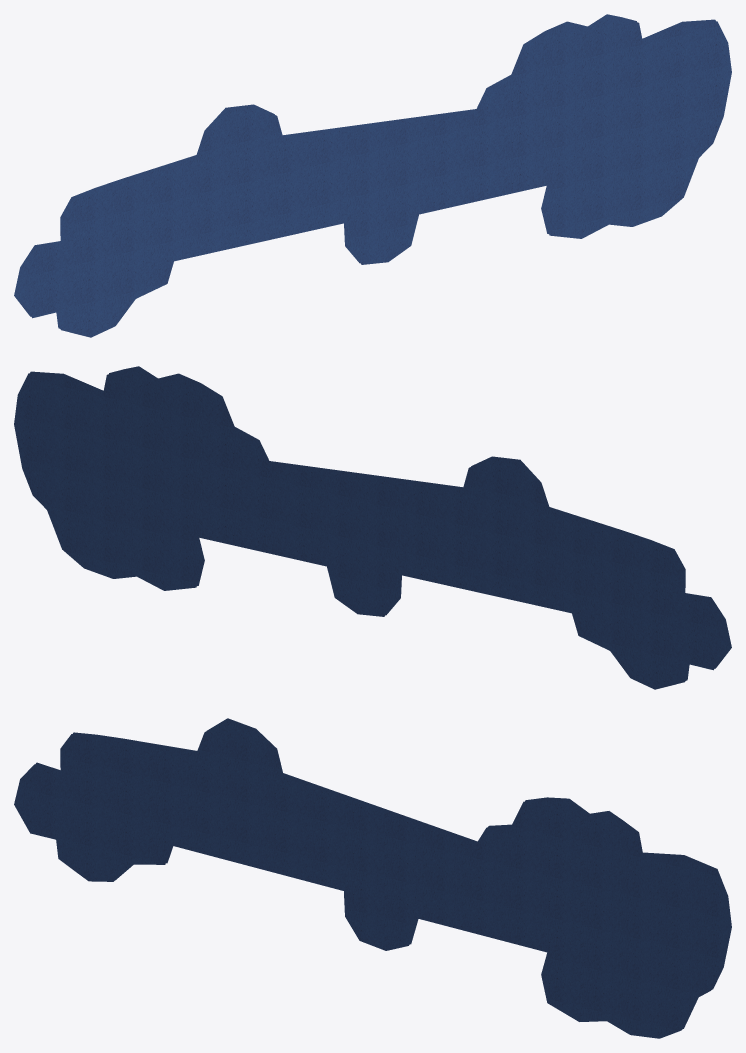
File: floor_9.obj
3 renders of one model, top to bottom at view 1: azimuth 30°, elevation 25°; view 2: azimuth 150°, elevation 25°; view 3: azimuth 330°, elevation 25°, orthographic.
Parts seen in each view (by area): view 1: floor_9; view 2: floor_9; view 3: floor_9.
Part boxes in pixels (x1,y1,x2,y2): floor_9: [14, 14, 731, 337]; floor_9: [14, 366, 731, 689]; floor_9: [14, 718, 731, 1038].
Size of the model in its own units: 18.27 by 5.35 by 0.1.
Materials: 1 (1 with a texture image).
